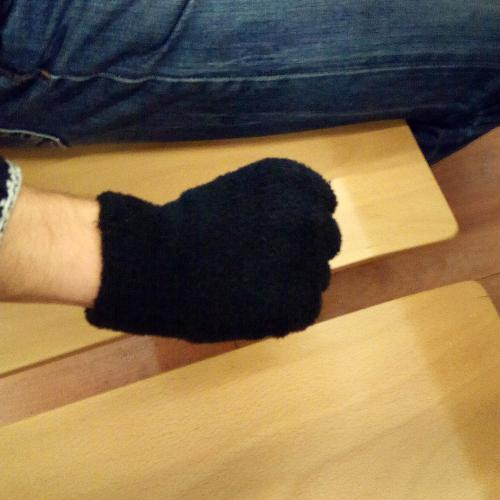rock: (87, 153, 347, 351)
